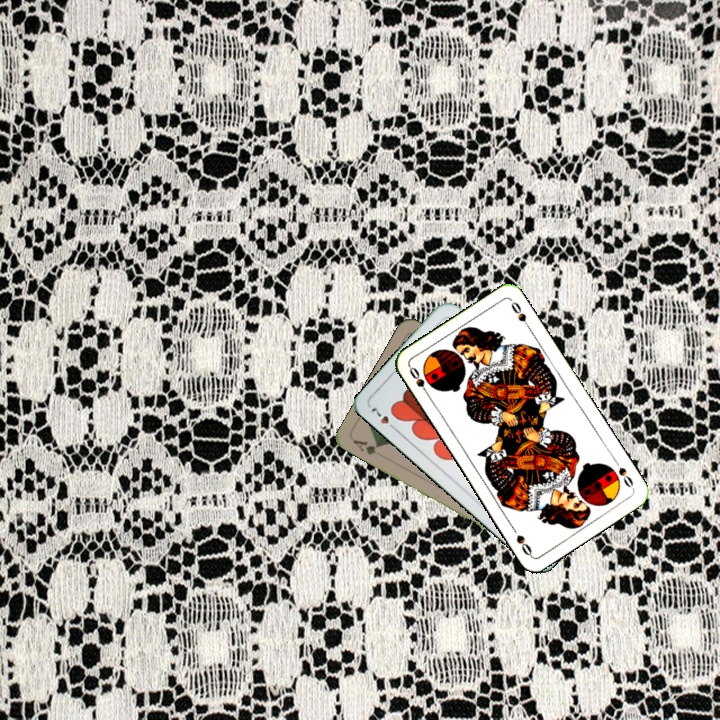GA: (349, 435, 382, 458)
H7: (367, 403, 400, 434)
SO: (405, 363, 432, 399), (610, 455, 636, 491)
